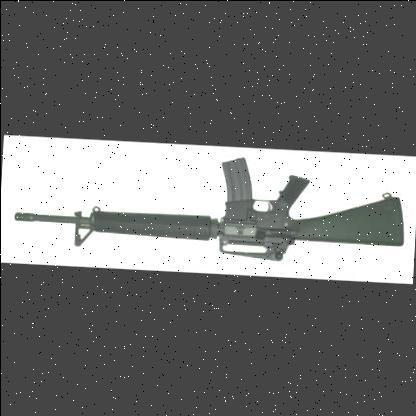rifle: (12, 143, 410, 271)
